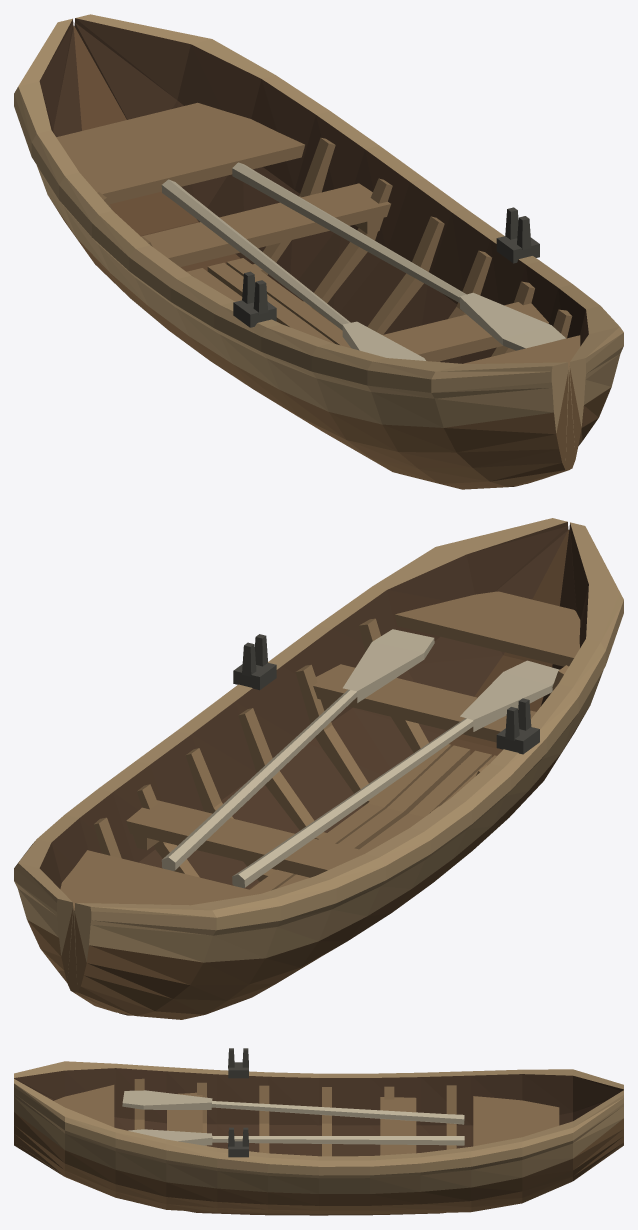
The model's file is wooden-rowboat-916981.glb.
The picture shows the model from 3 angles, top to bottom: view 1: azimuth 30°, elevation 25°; view 2: azimuth 150°, elevation 25°; view 3: azimuth 270°, elevation 25°; orthographic projection. The views are drawn at different scales.
Visible parts, largest first — view 1: wooden-rowboat-916981; view 2: wooden-rowboat-916981; view 3: wooden-rowboat-916981.
Part boxes in pixels (x1,y1,x2,y2): wooden-rowboat-916981: [14, 14, 623, 489]; wooden-rowboat-916981: [14, 518, 623, 1019]; wooden-rowboat-916981: [14, 1048, 623, 1215].
Size of the model in its own units: 1.2 by 0.818 by 3.4.
